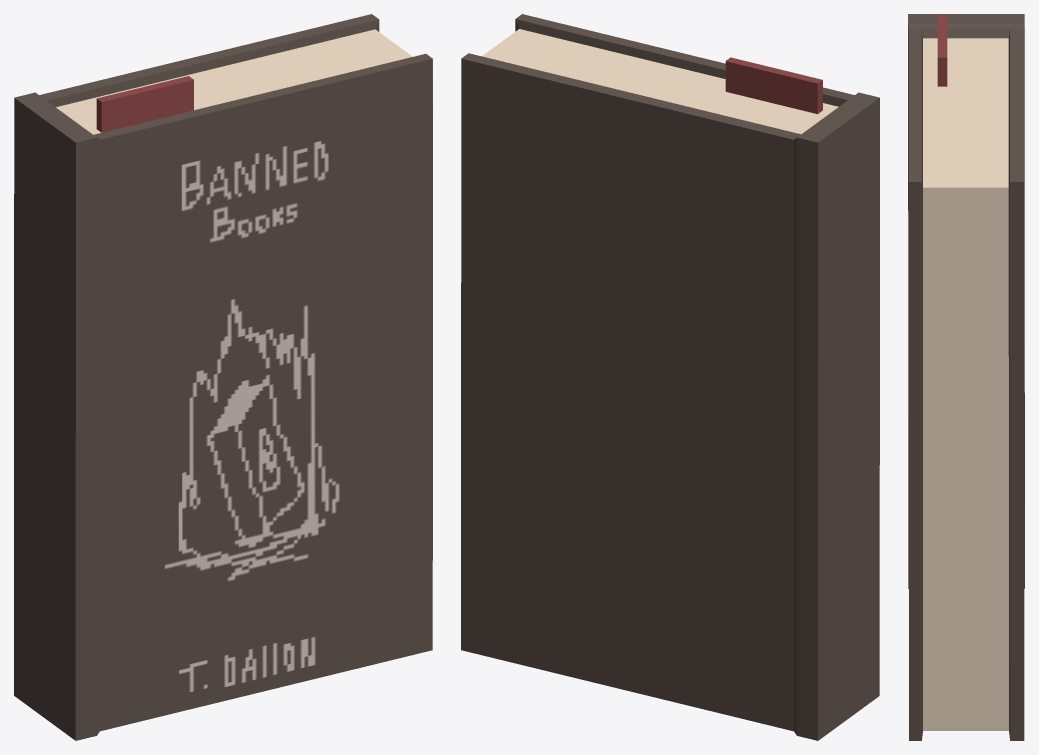
File: bannedbooks.fbx
The picture shows the model from 3 angles, left to right: view 1: azimuth 30°, elevation 25°; view 2: azimuth 150°, elevation 25°; view 3: azimuth 270°, elevation 25°; orthographic projection. The views are drawn at different scales.
Visible parts, largest first — view 1: Cube.007; view 2: Cube.007; view 3: Cube.007.
Boxes of the visible parts, bbox=[...] form: Cube.007: bbox=[14, 14, 432, 740]; Cube.007: bbox=[461, 14, 879, 740]; Cube.007: bbox=[908, 14, 1024, 740].
Size of the model in its own units: 22.87 by 37.75 by 6.85.
